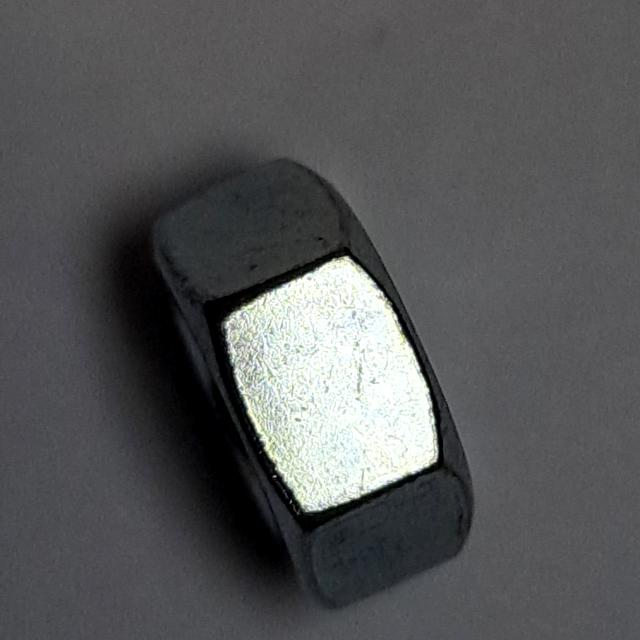Side_Excellent: (136, 139, 491, 620)
